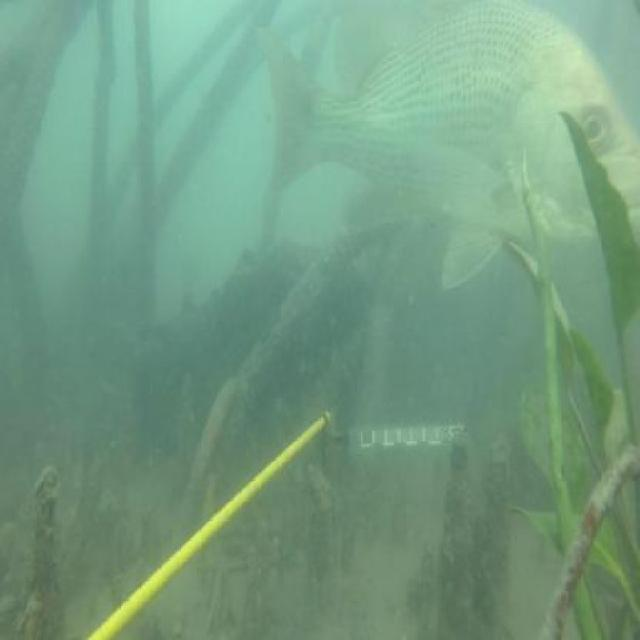lutjanus_johnii: (254, 5, 640, 293)
